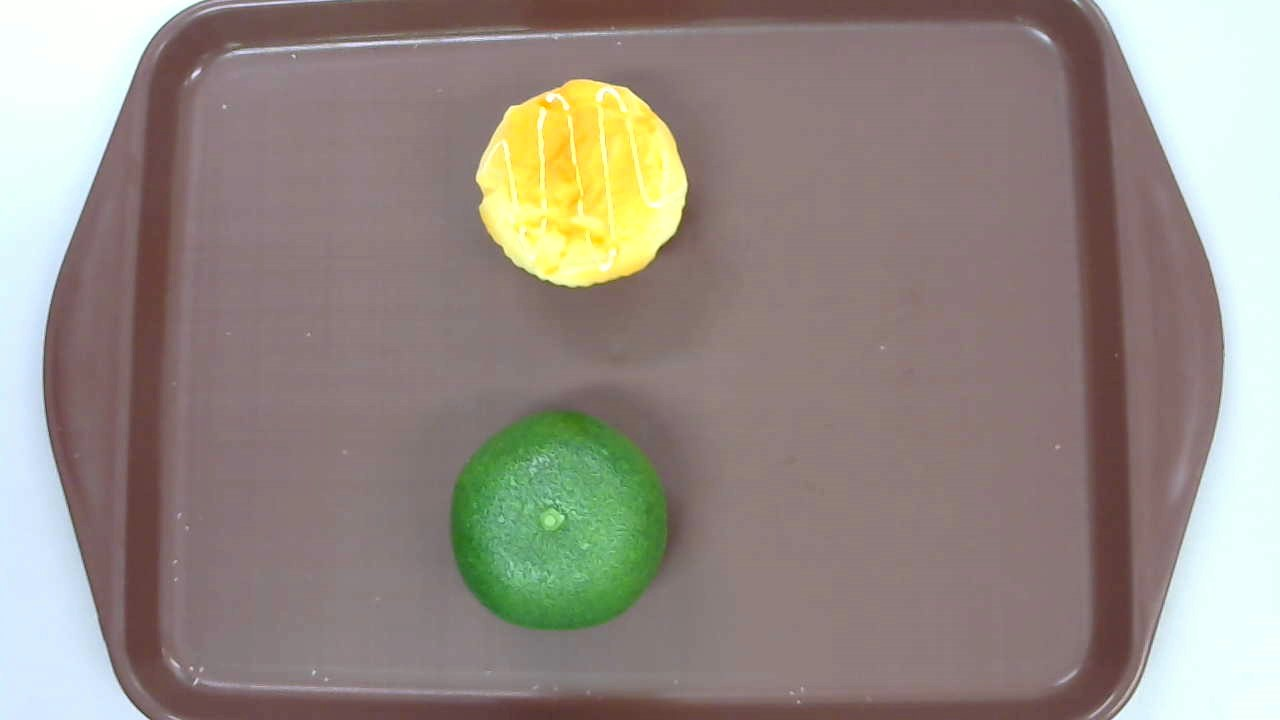cupcake: (474, 79, 687, 290)
green orange: (450, 409, 669, 634)
